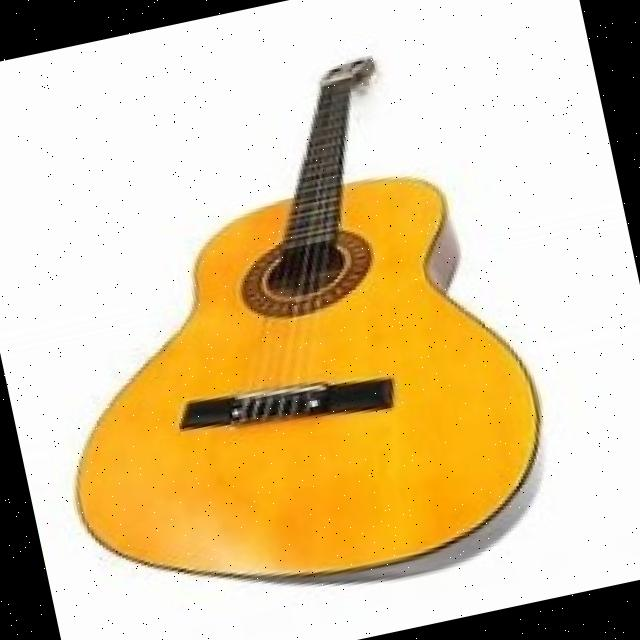guitar: (0, 31, 573, 640)
